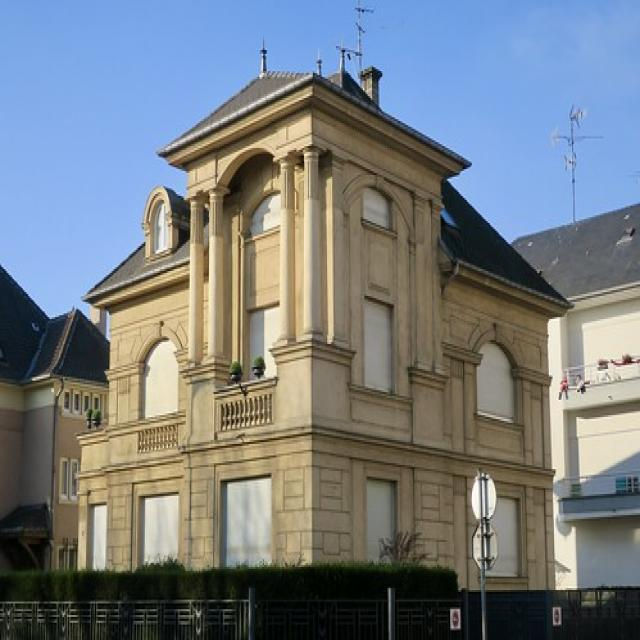Normal_building: (72, 58, 576, 602)
